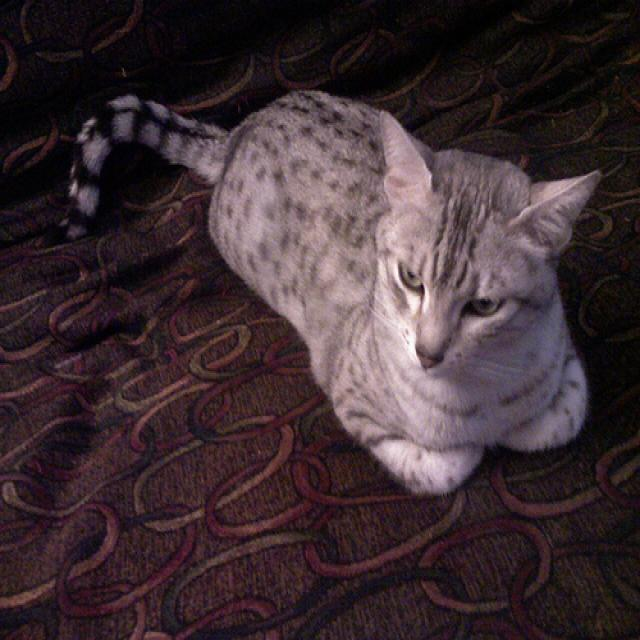Egyptian_Mau: (352, 92, 630, 395)
